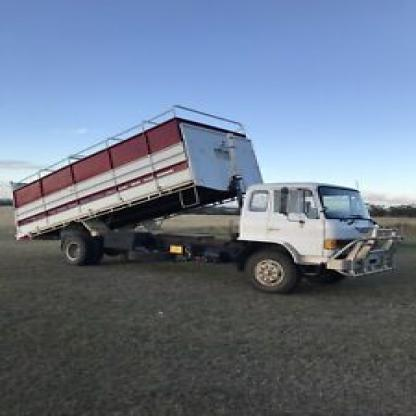dump_truck: (13, 108, 414, 298)
